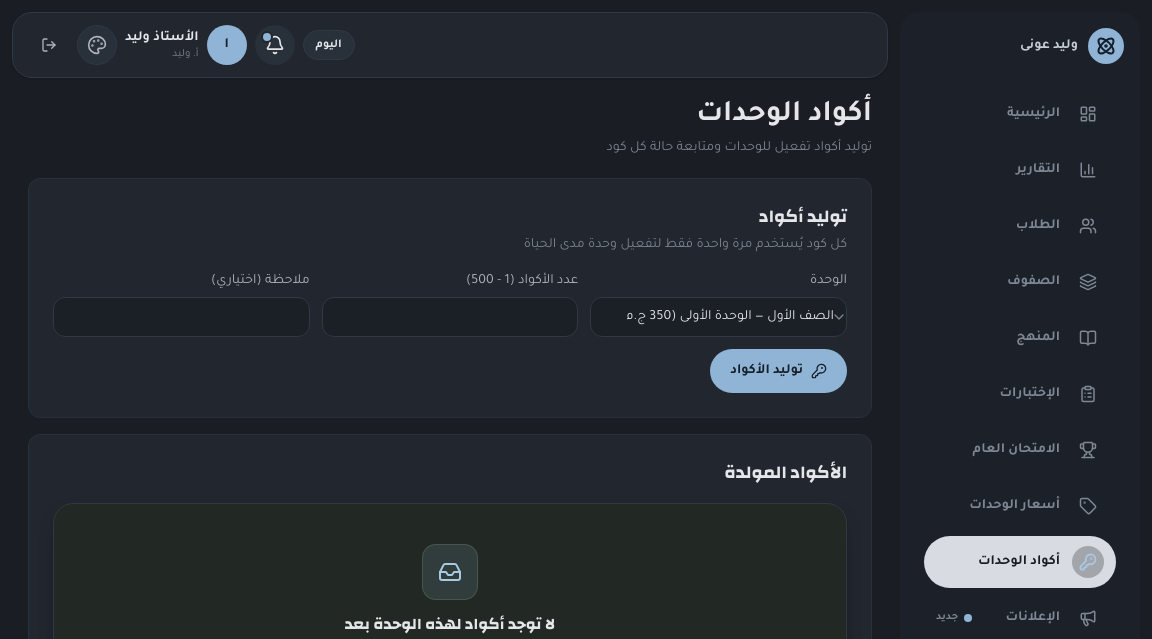
Test: CodesPage › falls back to execCommand when the clipboard API is unavailable
Type "2" into the number field labelled "عدد الأكواد (1 - 500)" at [450, 317], box x1=322 y1=297 x2=578 y2=337
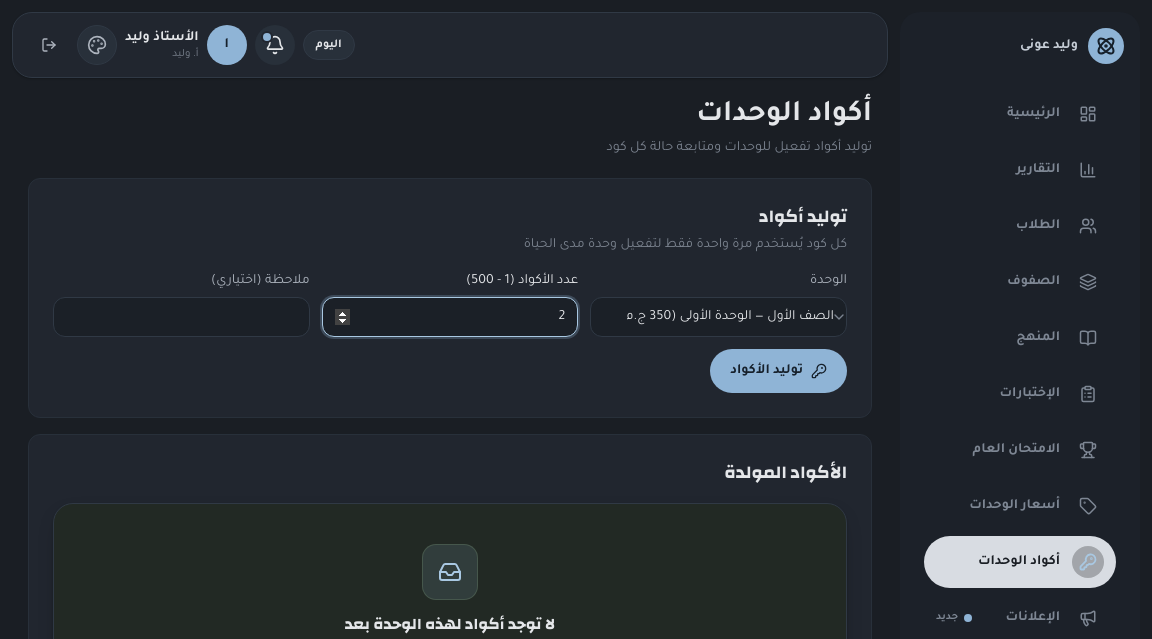
Click the button "توليد الأكواد" at [779, 371], box x1=710 y1=349 x2=847 y2=393
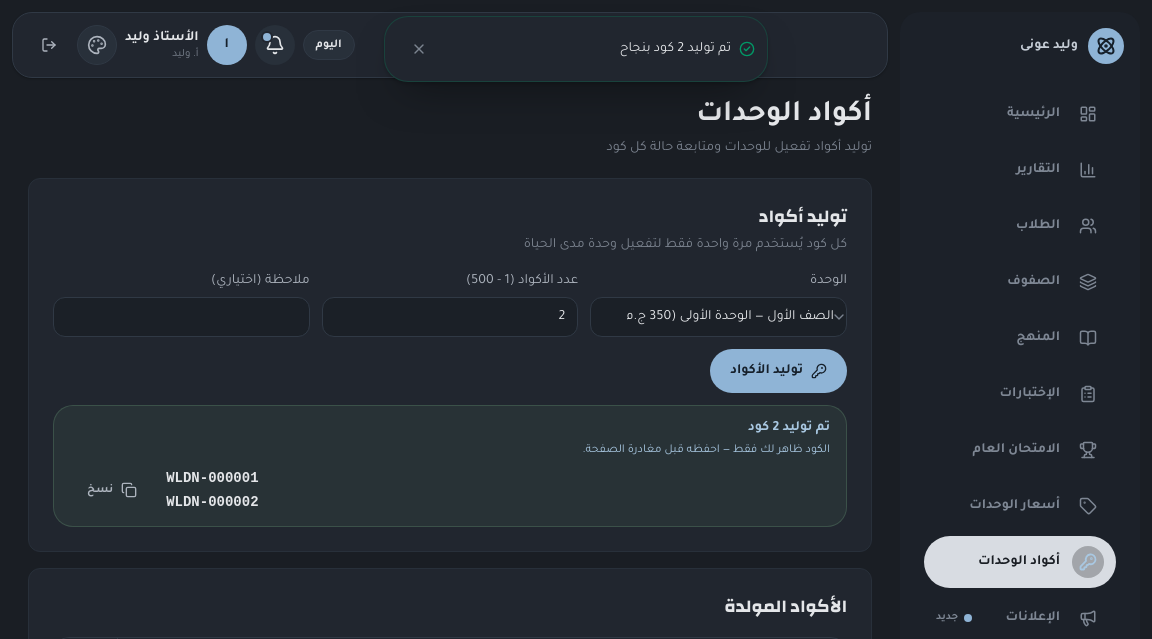
Click the button "نسخ" next to "WLDN-000001 WLDN-000002" at [112, 490], box x1=70 y1=470 x2=154 y2=510
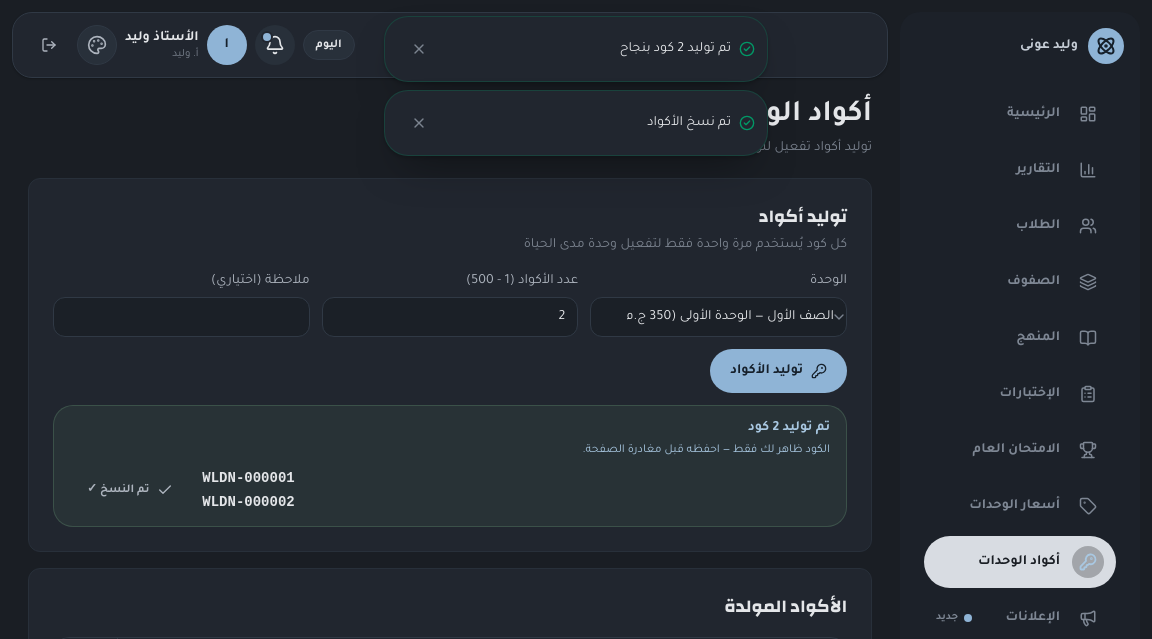
Check: the text "تم نسخ الأكواد" is shown, box x1=647 y1=116 x2=731 y2=130
Check: the button "تم النسخ ✓" is shown, box x1=70 y1=470 x2=190 y2=510
